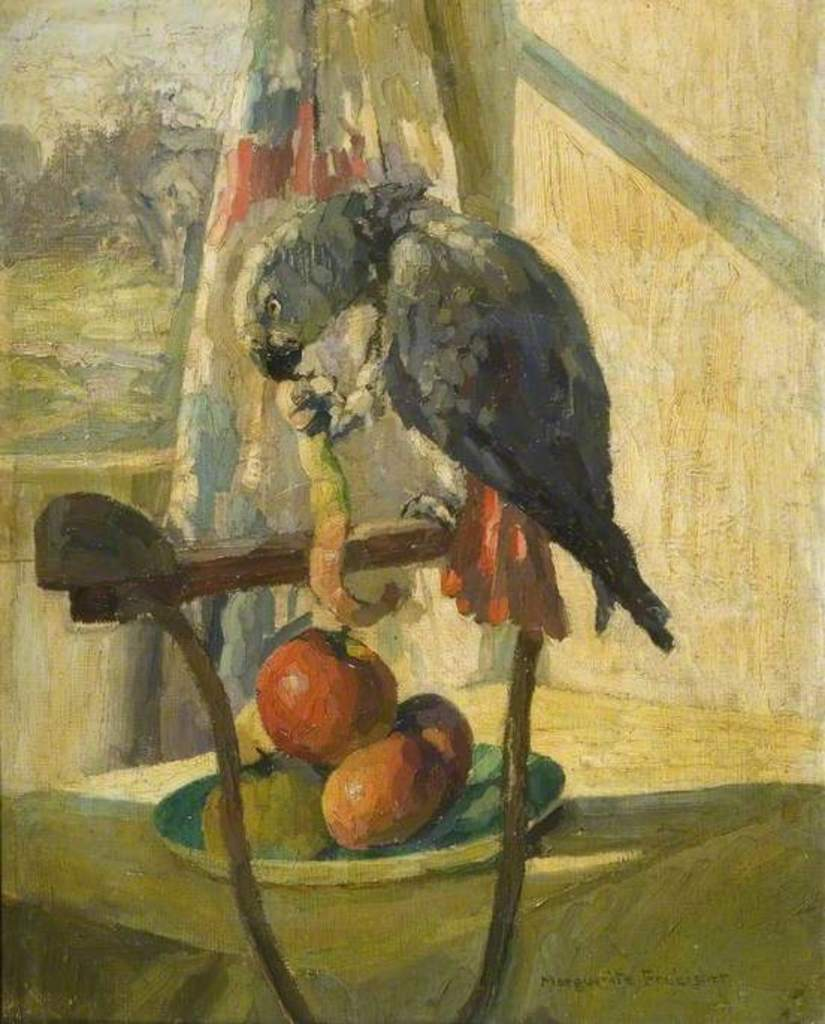Apple: (252, 644, 390, 787)
